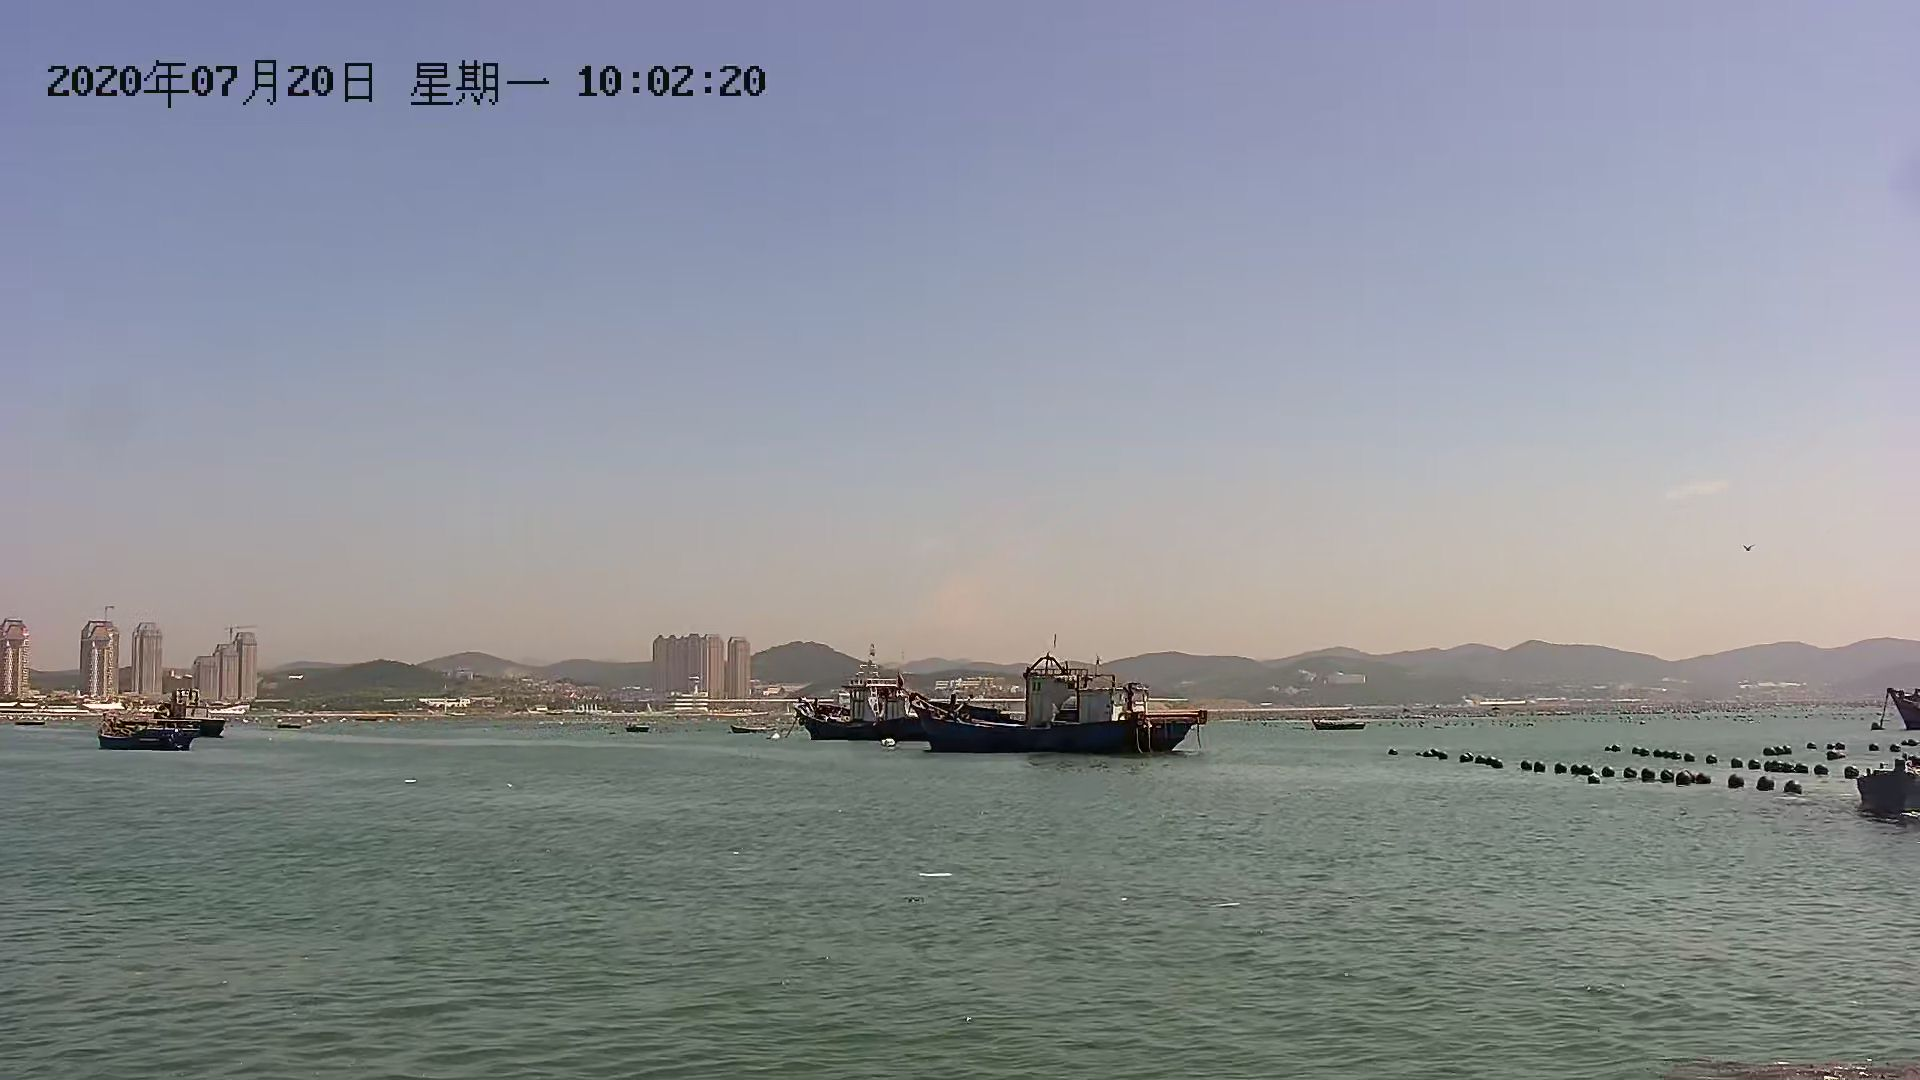ball: (1755, 775, 1782, 796), (1783, 775, 1805, 799), (1844, 761, 1862, 783), (1623, 761, 1640, 785), (1724, 774, 1745, 793), (1640, 764, 1658, 785), (1695, 771, 1712, 789), (1676, 770, 1691, 785)
boat: (88, 724, 193, 756), (1874, 675, 1920, 738), (1313, 712, 1375, 736)
ship: (931, 659, 1213, 760), (795, 669, 928, 744)
